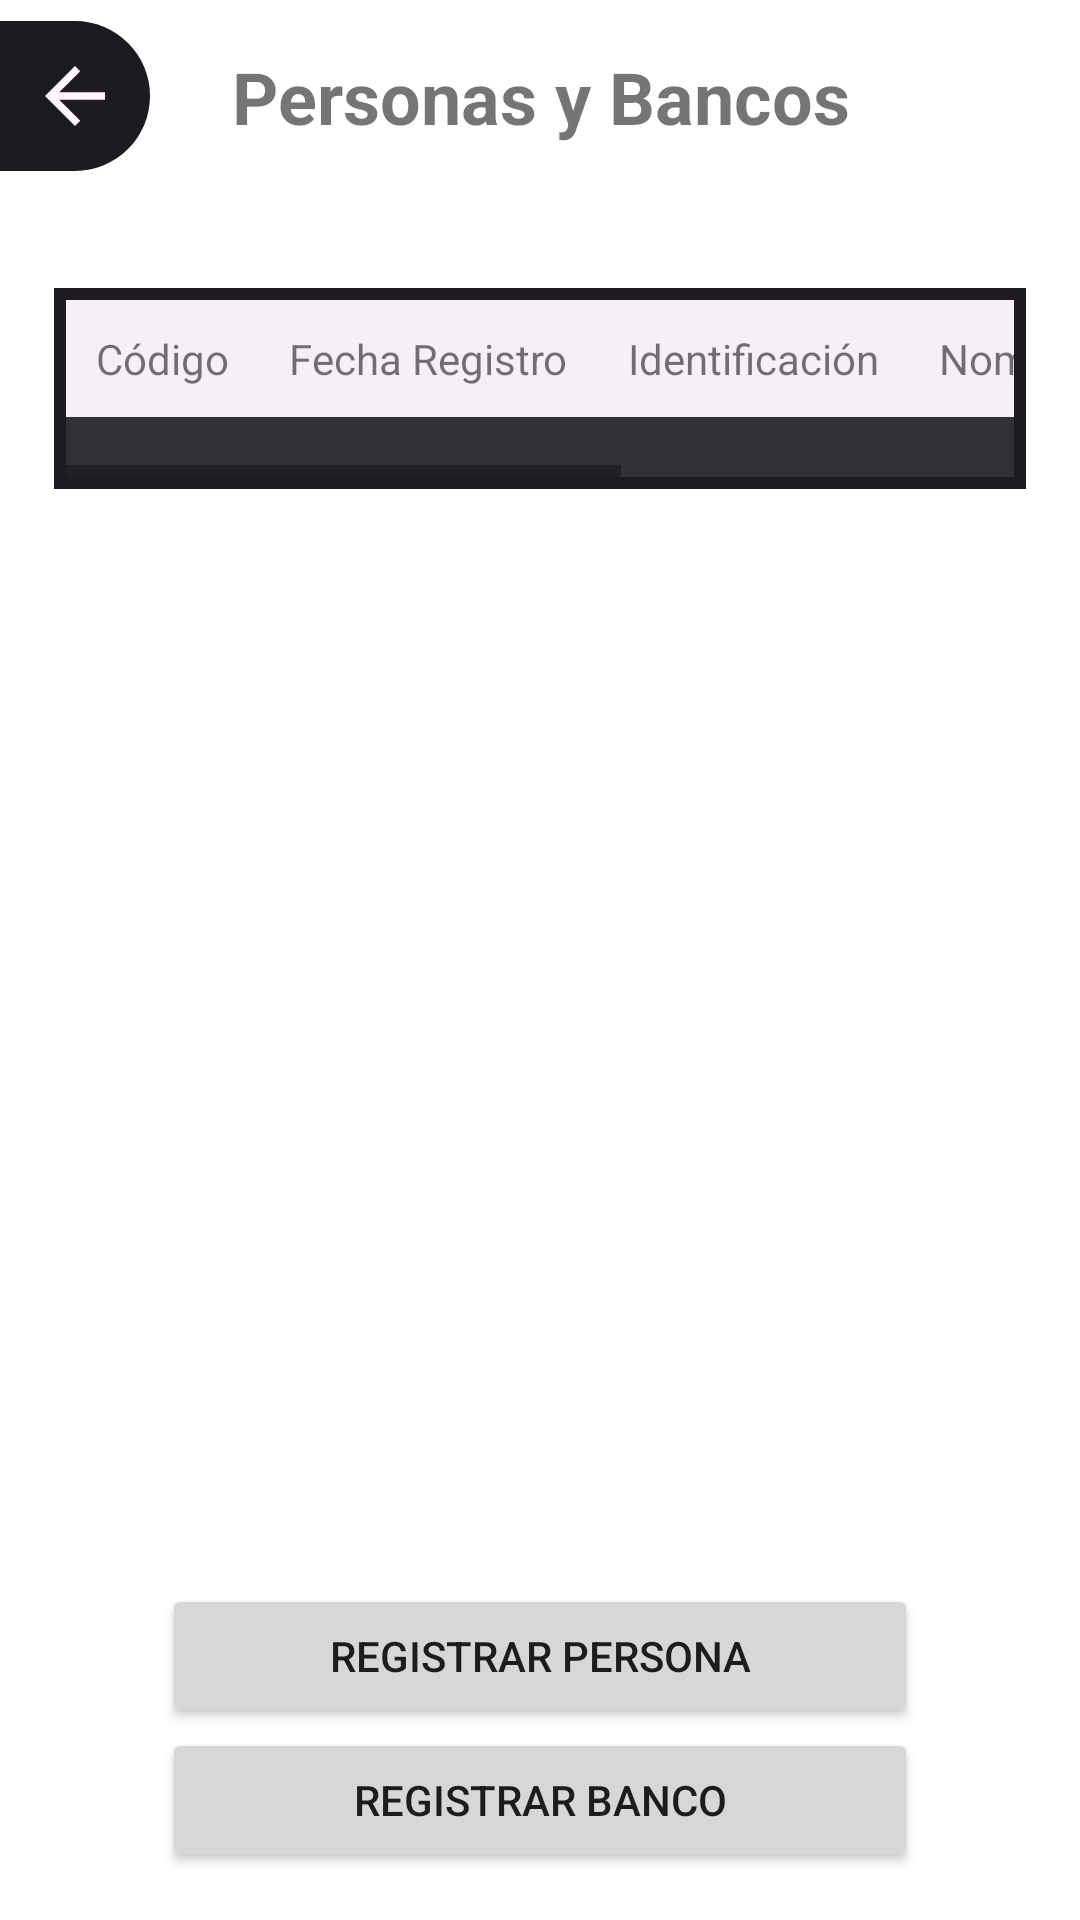

Screen size 1080 x 1920. Icon name, then its box in pixels as (x1, y1, x2, y2):
Botón de Regresar a la pestaña principal: (0, 21, 150, 171)
